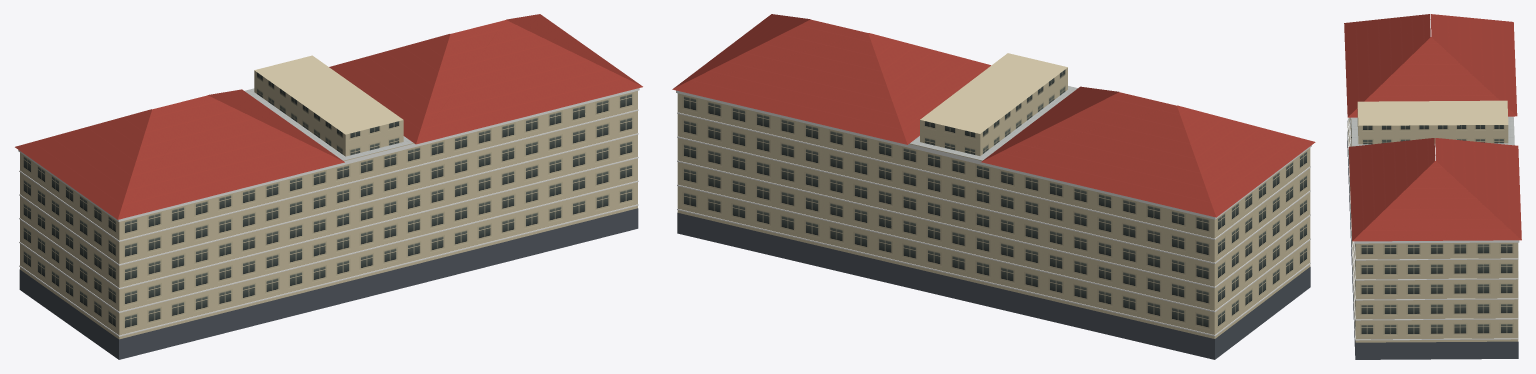
File: dorm_qinyuan_f4.glb
3 views of the same model, side by side, from view 1: azimuth 30°, elevation 25°; view 2: azimuth 150°, elevation 25°; view 3: azimuth 270°, elevation 25° (orthographic). The views are drawn at different scales.
Parts seen in each view (by area): view 1: 1316307763; view 2: 1316307763; view 3: 1316307763.
Part boxes in pixels (x1,y1,x2,y2): 1316307763: (15, 14, 642, 359); 1316307763: (672, 14, 1315, 359); 1316307763: (1344, 14, 1521, 359).
Bounding box in the file's own units: 81.63 × 28.47 × 27.94.
4 materials, 3 textured.
